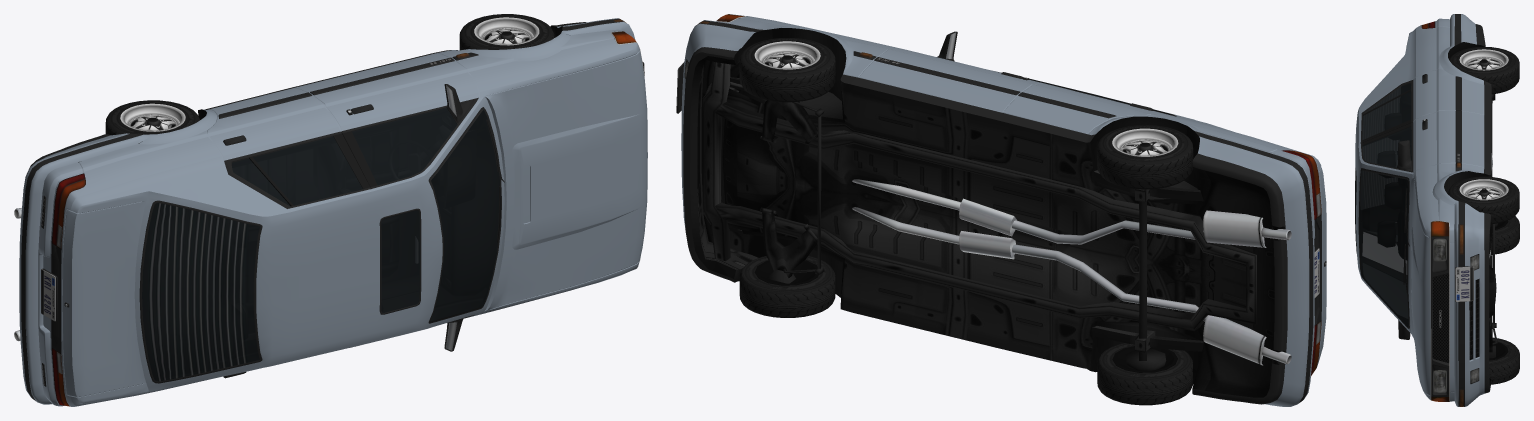
File: model_paint2.gltf
The picture shows the model from 3 angles, left to right: view 1: azimuth 30°, elevation 25°; view 2: azimuth 150°, elevation 25°; view 3: azimuth 270°, elevation 25°; orthographic projection. The views are drawn at different scales.
Visible parts, largest first — view 1: kiri86; view 2: kiri86; view 3: kiri86.
Part boxes in pixels (x1,y1,x2,y2): kiri86: (14,14,647,406); kiri86: (676,14,1326,406); kiri86: (1355,14,1519,406).
Size of the model in its own units: 4.31 by 1.76 by 1.32.
Materials: 8 (7 with a texture image).
